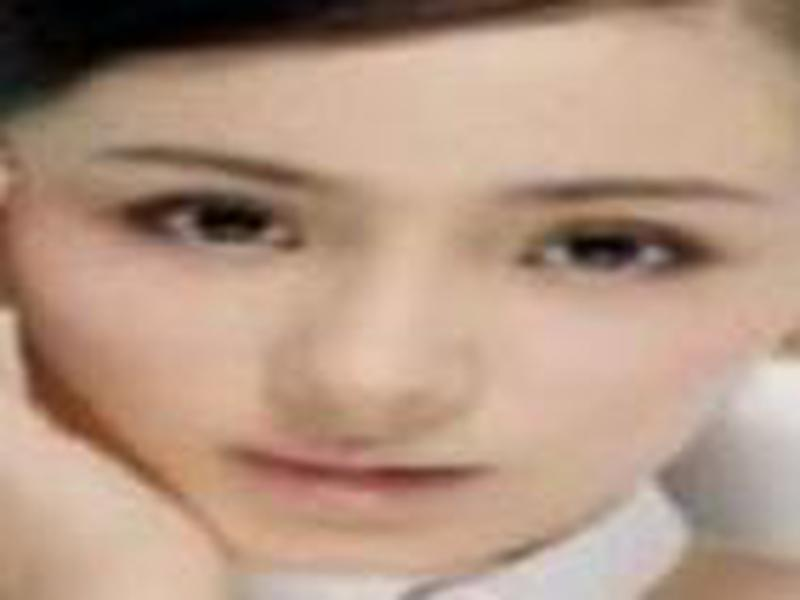without_mask: (23, 33, 785, 574)
